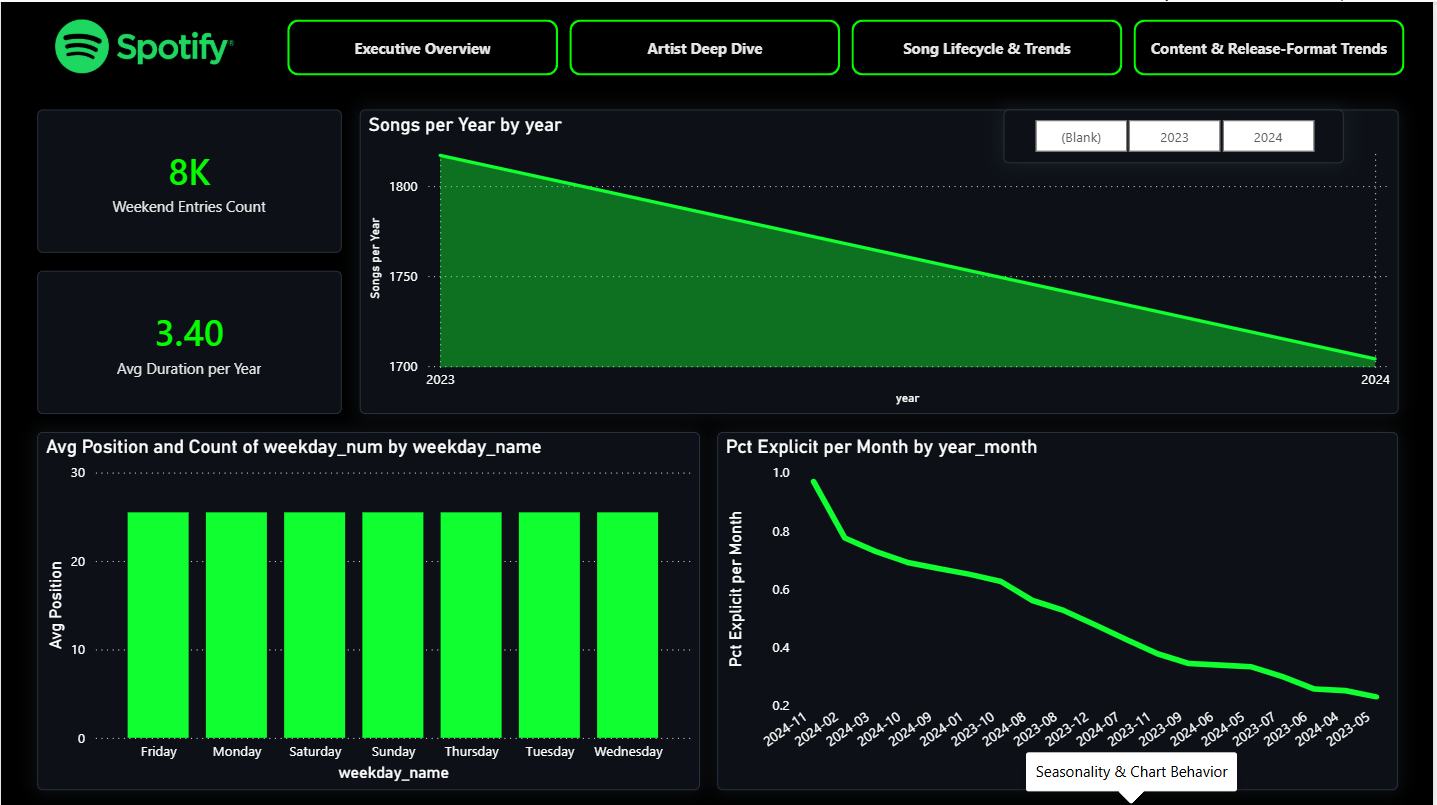

What the dashboard file says about the page in this screenshot:
{"tool":"powerbi","page":{"name":"Seasonality & Chart Behavior","canvas":[1280,720],"ordinal":5},"visuals":[{"type":"image","box":[32,16,192,48],"z":0},{"type":"lineChart","fields":{"Category":["dim_dates.year_month"],"Y":["Measure.Pct Explicit per Month"]},"box":[640,384,608,320],"z":1000},{"type":"cardVisual","fields":{"Data":["Measure.Weekend Entries Count"]},"box":[32,96,272,128],"z":2000},{"type":"cardVisual","fields":{"Data":["Measure.Avg Duration per Year"]},"box":[32,240,272,128],"z":3000},{"type":"columnChart","fields":{"Category":["dim_dates.weekday_name"],"Y":["Measure.Avg Position"]},"box":[32,384,592,320],"z":4000},{"type":"areaChart","fields":{"Category":["dim_dates.year"],"Y":["Measure.Songs per Year"]},"box":[320,96,928,272],"z":5000},{"type":"pageNavigator","box":[256,16,1000,50],"z":6000},{"type":"slicer","fields":{"Values":["dim_dates.year"]},"box":[896,96,304,48],"z":7000}]}

Visuals, with their boxes in screenshot pixels (x1, y1, x2, y2), scaled from the page's 1280x720 canvas onto the 1437x805 screenshot:
image: x1=36, y1=18, x2=251, y2=72
lineChart - dim_dates.year_month x Measure.Pct Explicit per Month: x1=718, y1=429, x2=1401, y2=787
cardVisual - Measure.Weekend Entries Count: x1=36, y1=107, x2=341, y2=250
cardVisual - Measure.Avg Duration per Year: x1=36, y1=268, x2=341, y2=411
columnChart - dim_dates.weekday_name x Measure.Avg Position: x1=36, y1=429, x2=701, y2=787
areaChart - dim_dates.year x Measure.Songs per Year: x1=359, y1=107, x2=1401, y2=411
pageNavigator: x1=287, y1=18, x2=1410, y2=74
slicer - dim_dates.year: x1=1006, y1=107, x2=1347, y2=161
